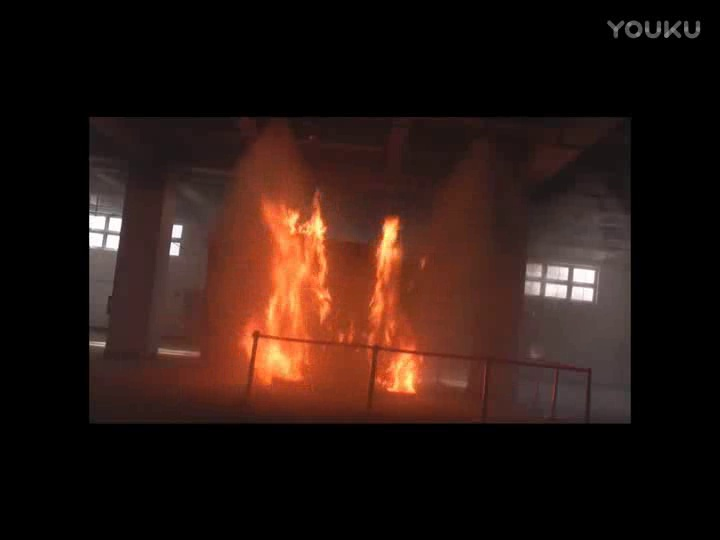fire: (235, 182, 332, 388), (368, 215, 427, 396)
